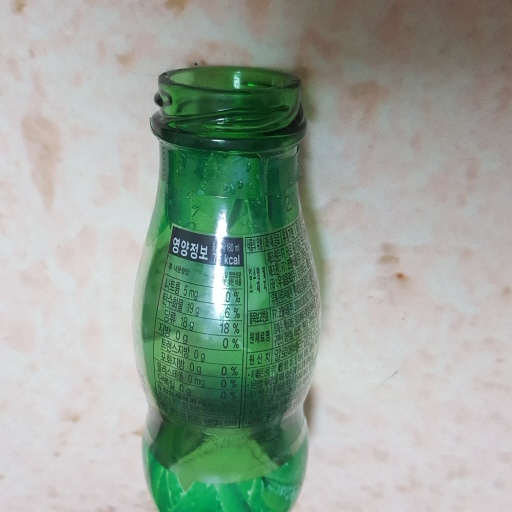Glass_4: (143, 59, 321, 512)
